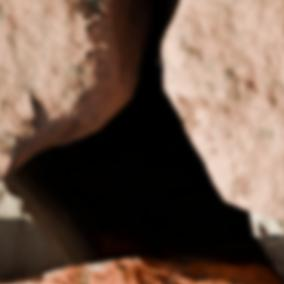brick: (0, 260, 279, 283)
broken_brick: (164, 0, 283, 221), (0, 0, 126, 180)
crack: (2, 0, 282, 283)
